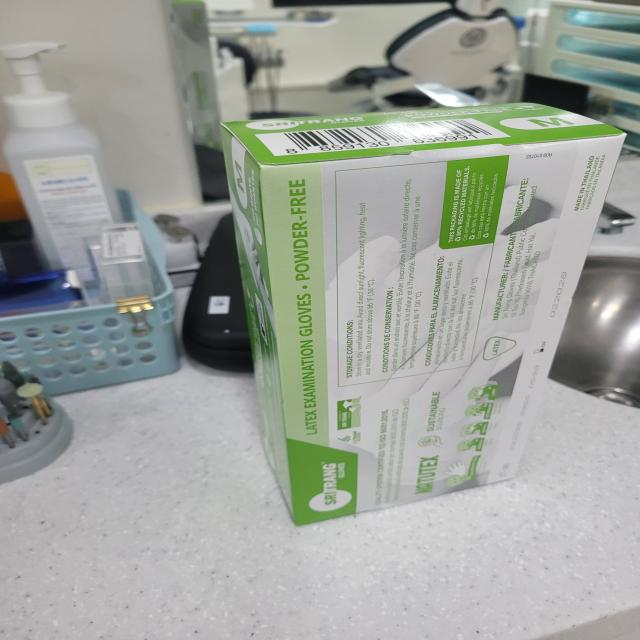glove: (193, 102, 614, 532)
